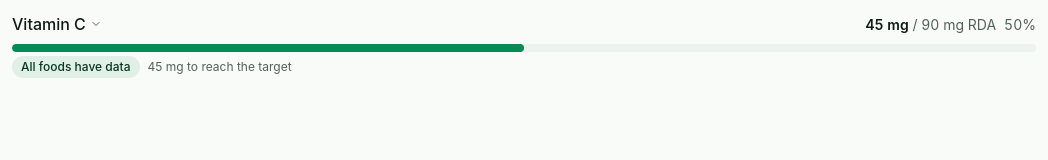
Test: NutrientRow › expands to show the source
expect the text "NASEM DRI" is not shown: met
Click the button "Vitamin C": (57, 24) [12,12,102,36]
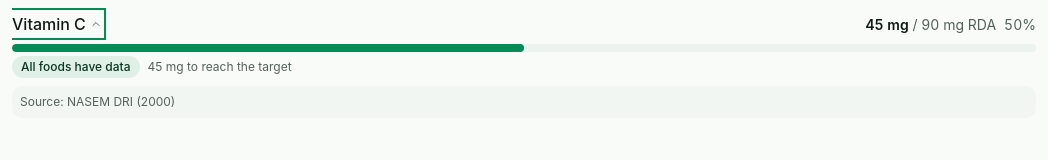
expect the text "Source: NASEM DRI (2000)" is shown: met, box [20,94,175,109]
